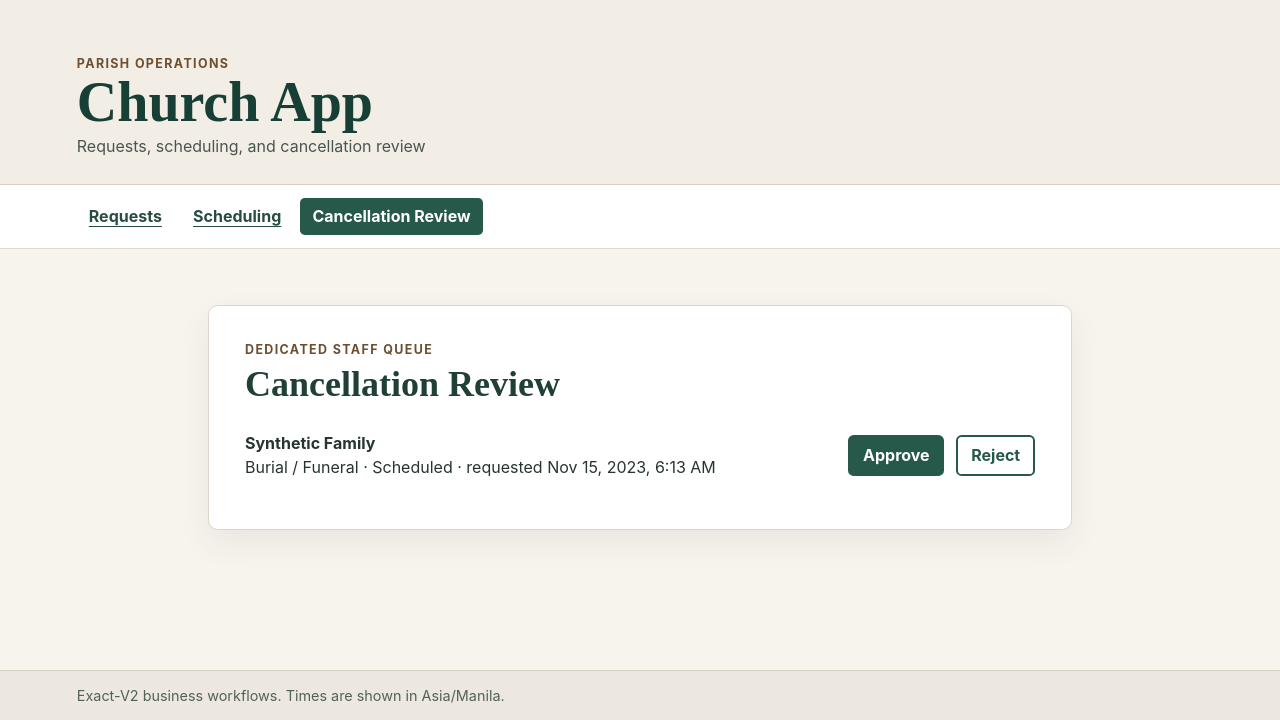
it: application foundation › uses the dedicated pending-review query and refreshes the queue after approval
This screenshot has width=1280, height=720.
Expected: the text "Synthetic Family" is shown, left=245, top=433, right=375, bottom=453
What coordinates should you click on to do the following:
click the button "Approve"
I would click on:
 (896, 455)
Its box is left=848, top=435, right=944, bottom=476.
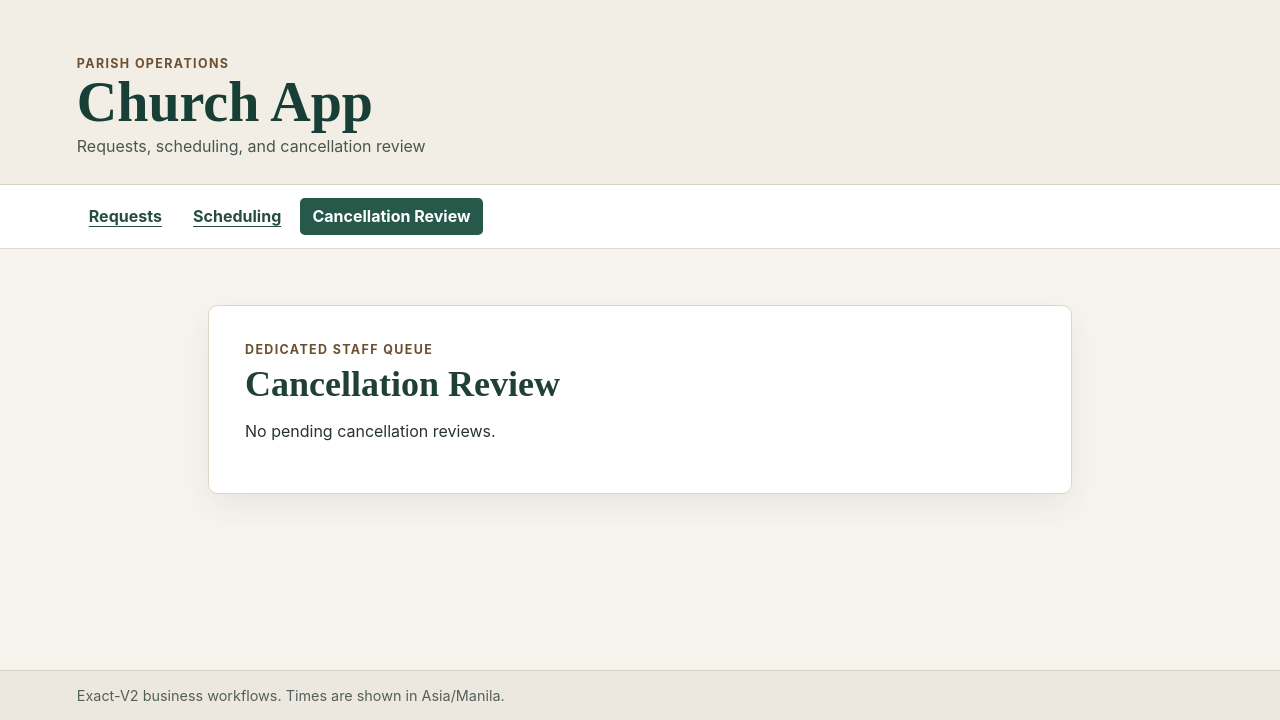
Now the text "No pending cancellation reviews." is shown, box left=245, top=421, right=496, bottom=441
